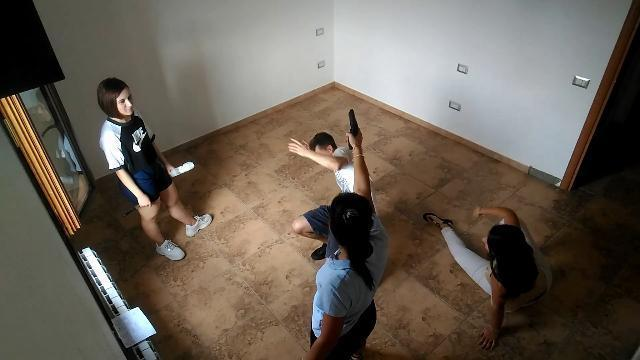non-violence: (92, 77, 214, 263), (424, 197, 556, 347)
violence: (286, 105, 394, 360)
weapon: (347, 107, 359, 149)
